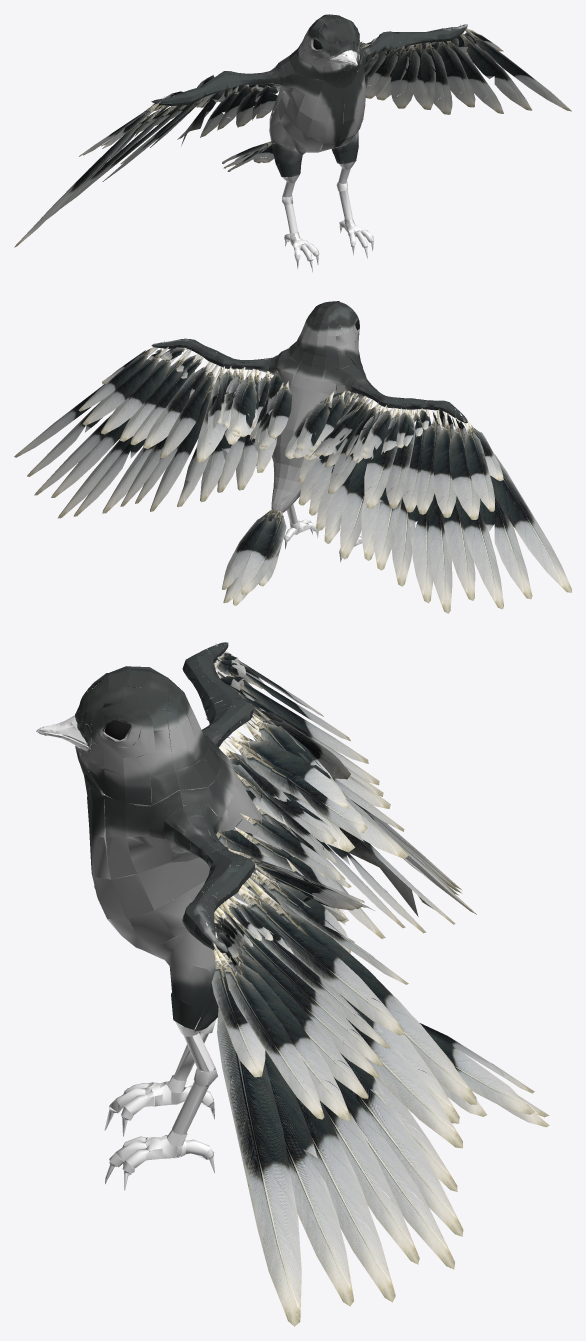
The model's file is little-bird.glb.
3 views of the same model, one above another, from view 1: azimuth 30°, elevation 25°; view 2: azimuth 150°, elevation 25°; view 3: azimuth 270°, elevation 25° (orthographic). The views are drawn at different scales.
Parts seen in each view (by area): view 1: little-bird; view 2: little-bird; view 3: little-bird.
Part boxes in pixels (x1,y1,x2,y2): little-bird: (14,14,571,271); little-bird: (14,301,571,613); little-bird: (36,642,549,1326).
Size of the model in its own units: 7.38 by 3.08 by 2.94.
4 materials, 2 textured.
